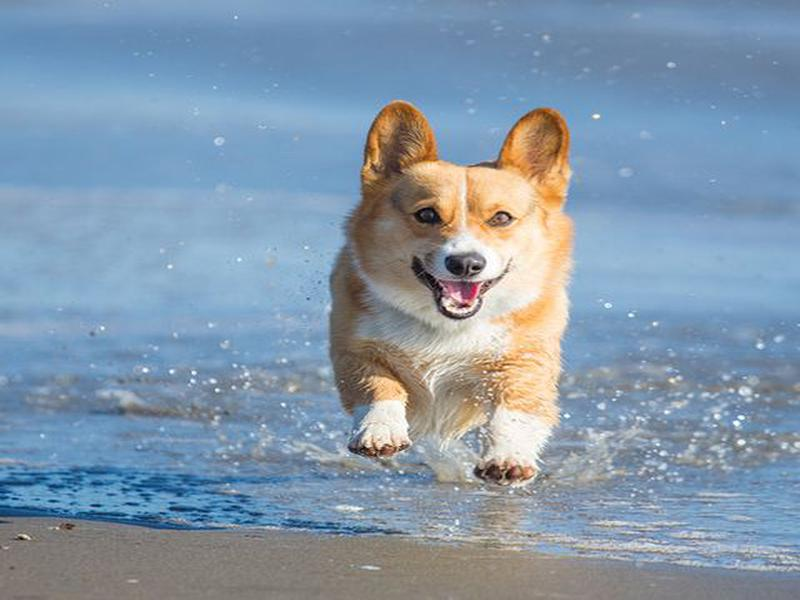corgi: (362, 99, 571, 323)
